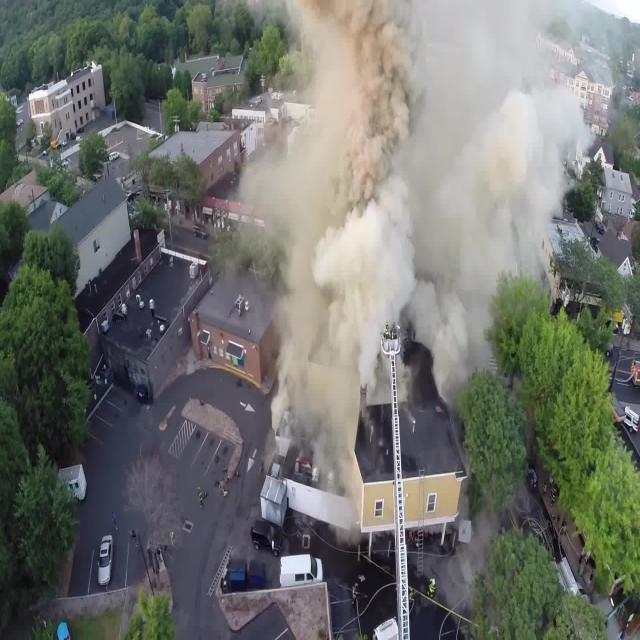Smoke: (306, 16, 524, 366)
